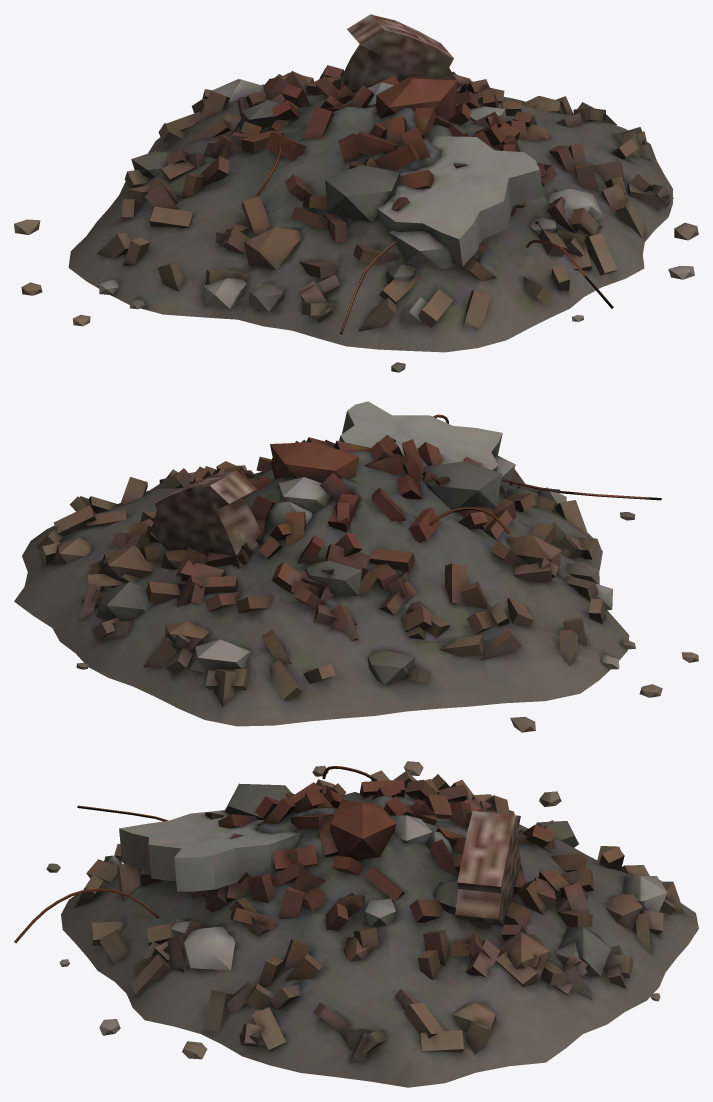
Rendered from Rubble.glb.
3 views of the same model, one above another, from view 1: azimuth 30°, elevation 25°; view 2: azimuth 150°, elevation 25°; view 3: azimuth 270°, elevation 25° (orthographic). The views are drawn at different scales.
Visible parts, largest first — view 1: heap_small_mesh; view 2: heap_small_mesh; view 3: heap_small_mesh.
Part boxes in pixels (x1,y1,x2,y2): heap_small_mesh: [14, 14, 698, 372]; heap_small_mesh: [14, 401, 698, 732]; heap_small_mesh: [14, 761, 698, 1087].
Bounding box in the file's own units: 3.93 × 0.8941 × 3.55.
Materials: 1 (1 with a texture image).
